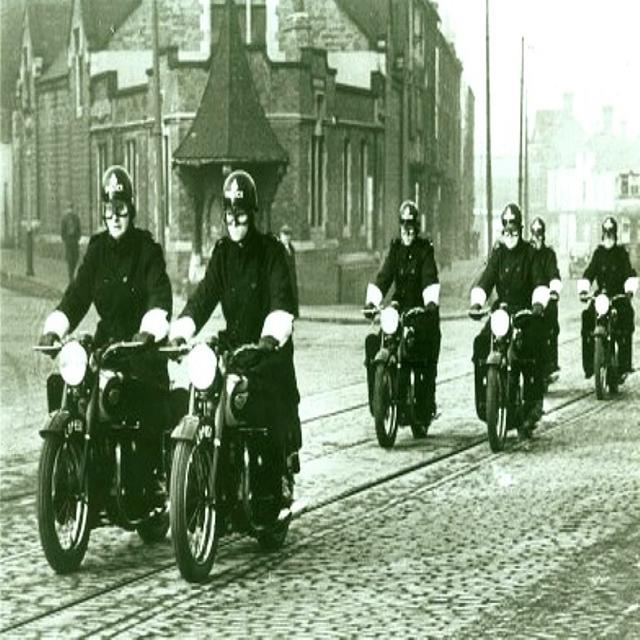motor: (30, 334, 190, 572), (158, 340, 295, 584), (464, 303, 543, 454), (363, 280, 429, 449), (579, 290, 631, 398), (536, 315, 560, 398)
